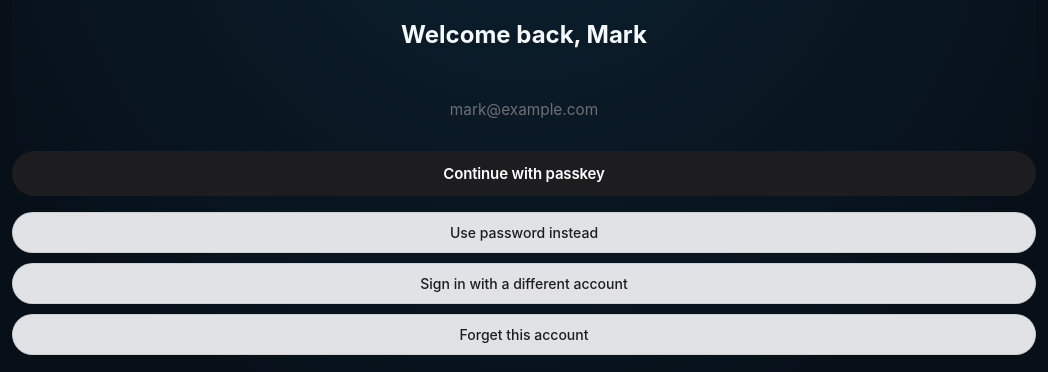
Test case: LoginView remembered account › opens a blank form for a different account without deleting the remembered hint
Click the button "Sign in with a different account" at [524, 283], box x1=12 y1=262 x2=1036 y2=304
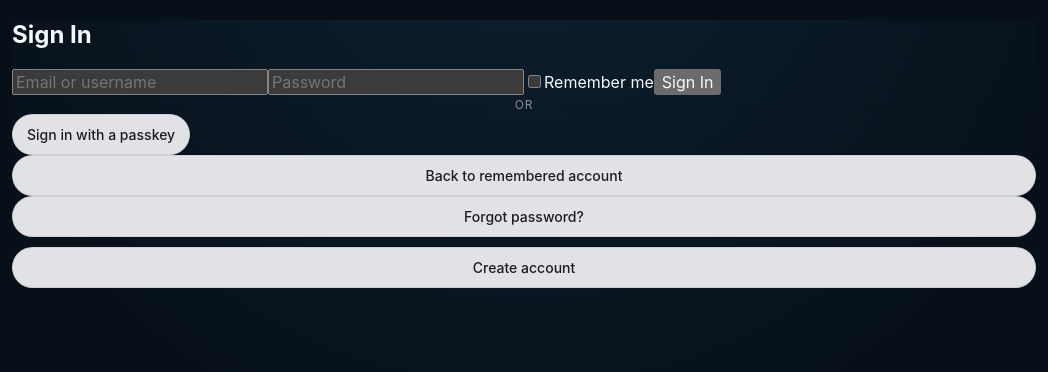
Expected: the field with placeholder "Email or username" is empty, x1=12 y1=69 x2=268 y2=95
Expected: the checkbox labelled "Remember me" is not checked, x1=528 y1=75 x2=541 y2=88
